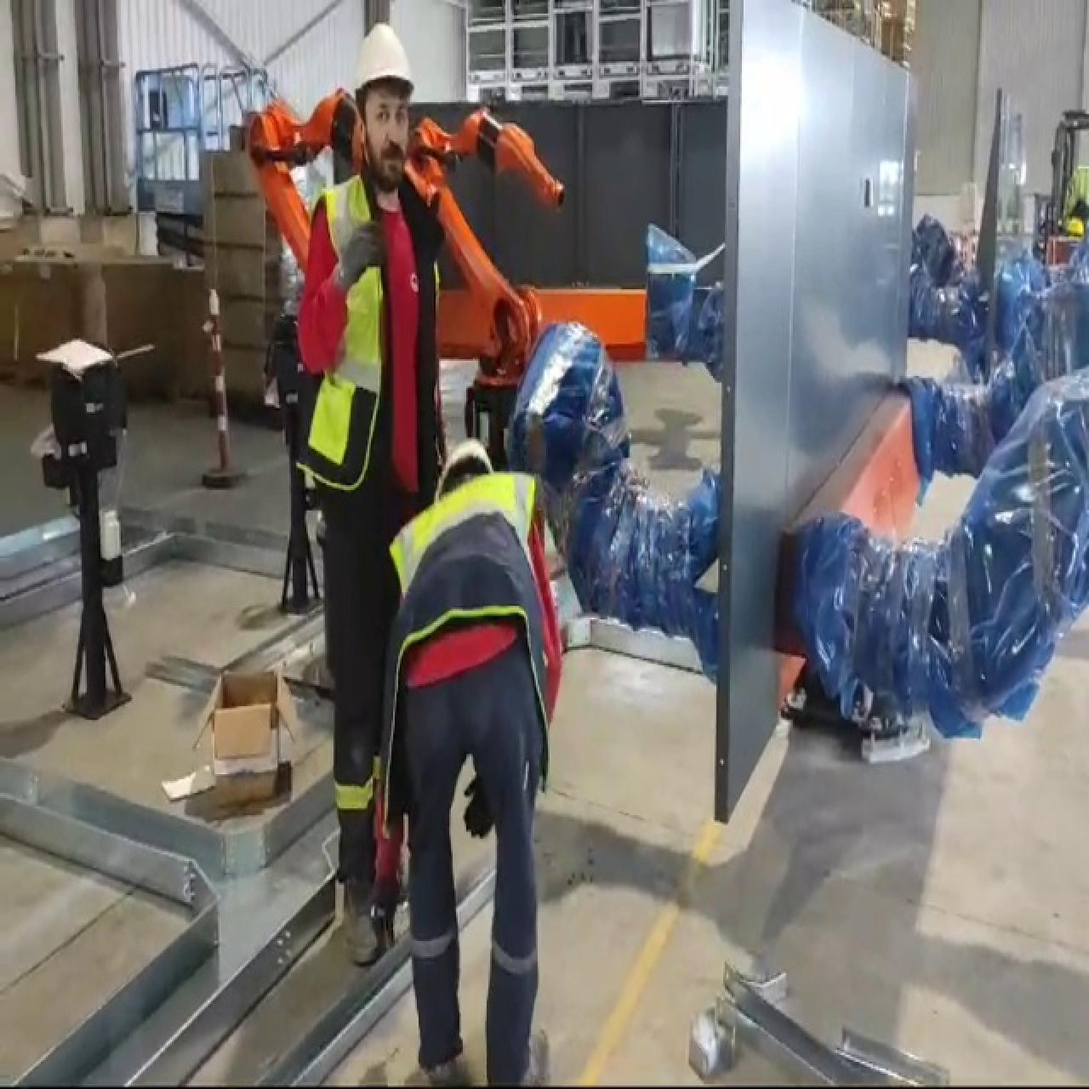Person: (278, 9, 467, 950), (370, 416, 622, 1089)
Safety_Vest: (388, 466, 574, 802), (302, 181, 463, 504)
